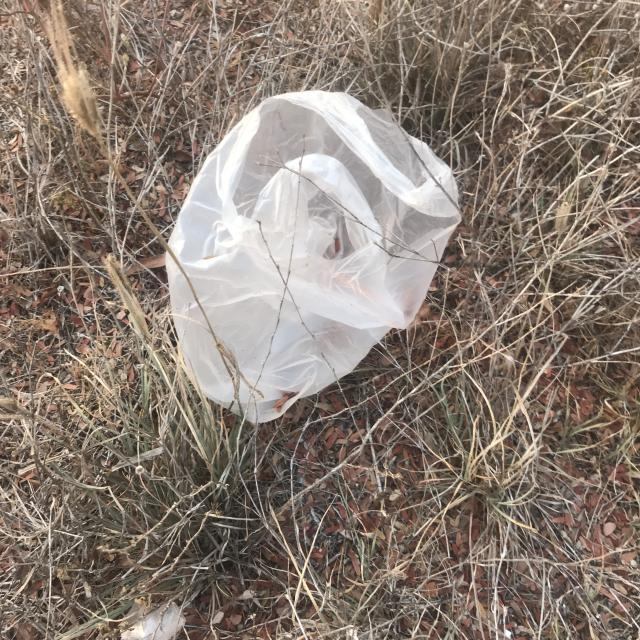Single-layer Plastic: (166, 91, 460, 422)
